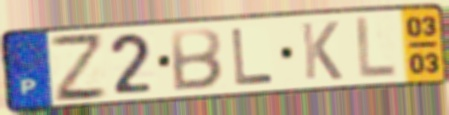2: (109, 31, 161, 98)
B: (169, 26, 225, 93)
K: (298, 20, 345, 82)
L: (354, 15, 399, 80), (229, 26, 276, 87)
Z: (47, 33, 111, 105)
